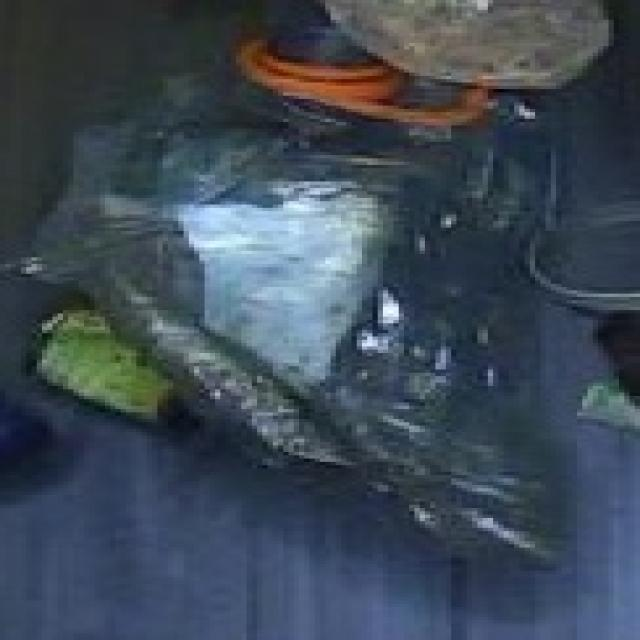plasticbottlecap: (209, 28, 521, 143)
